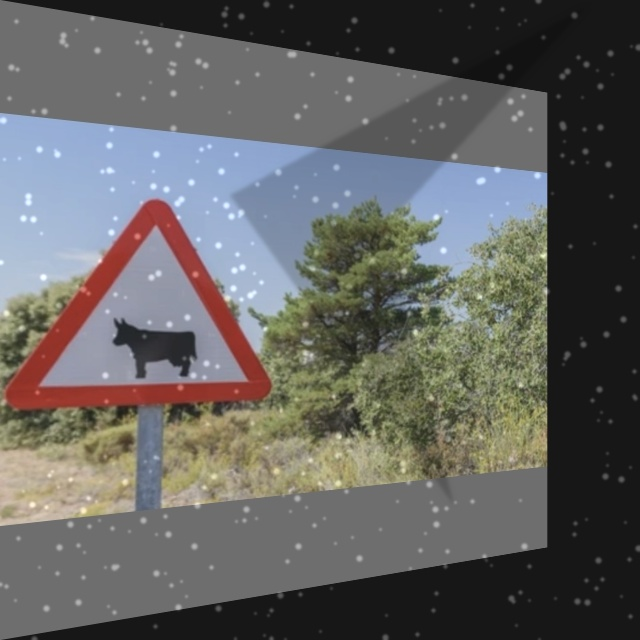Cattle: (43, 201, 260, 411)
